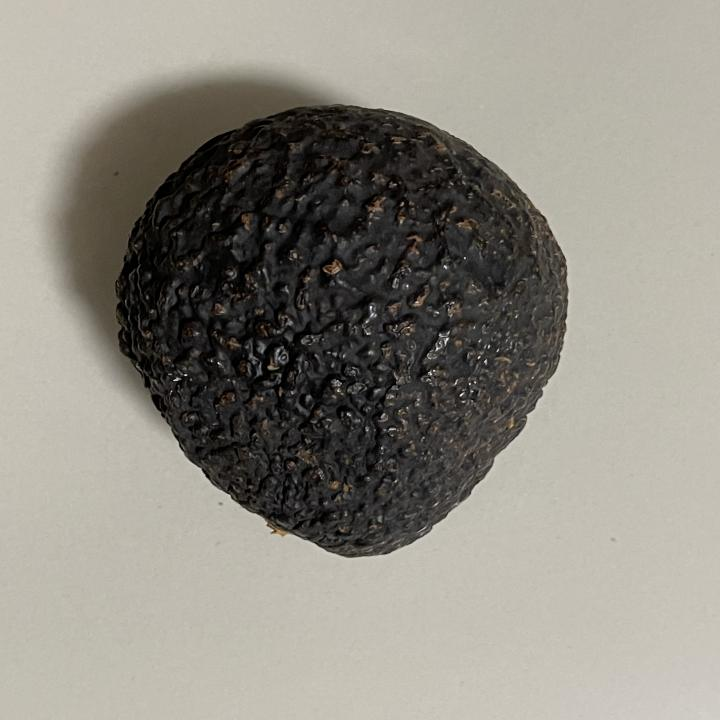Level3: (103, 96, 584, 568)
